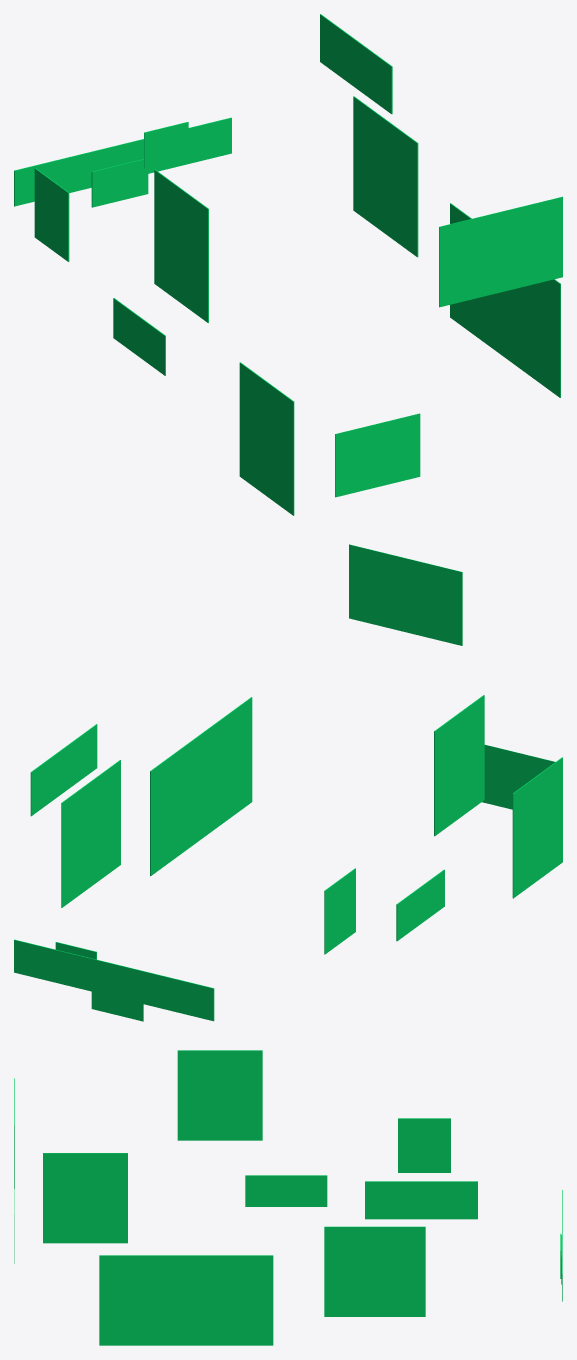
3 renders of one model, top to bottom at view 1: azimuth 30°, elevation 25°; view 2: azimuth 150°, elevation 25°; view 3: azimuth 270°, elevation 25°, orthographic. The views are drawn at different scales.
Visible parts, largest first — view 1: plane_11_msh, plane_10_msh, plane_8_msh, plane_7_msh, plane_6_msh, plane_12_msh, plane_1_msh, plane_9_msh, plane_5_msh, plane_4_msh, plane_3_msh, plane_2_msh; view 2: plane_10_msh, plane_11_msh, plane_1_msh, plane_8_msh, plane_6_msh, plane_7_msh, plane_9_msh, plane_12_msh, plane_5_msh, plane_4_msh, plane_3_msh; view 3: plane_10_msh, plane_8_msh, plane_6_msh, plane_7_msh, plane_9_msh, plane_5_msh, plane_4_msh.
Boxes of the visible parts, left/top/right/bottom form: plane_11_msh: left=439, top=196, right=562, bottom=307; plane_10_msh: left=450, top=203, right=560, bottom=397; plane_8_msh: left=353, top=96, right=418, bottom=257; plane_7_msh: left=239, top=362, right=294, bottom=515; plane_6_msh: left=154, top=169, right=208, bottom=322; plane_12_msh: left=335, top=413, right=420, bottom=497; plane_1_msh: left=14, top=117, right=231, bottom=206; plane_9_msh: left=320, top=14, right=392, bottom=114; plane_5_msh: left=34, top=168, right=69, bottom=261; plane_4_msh: left=113, top=298, right=165, bottom=375; plane_3_msh: left=91, top=159, right=148, bottom=207; plane_2_msh: left=144, top=122, right=188, bottom=168; plane_10_msh: left=150, top=697, right=252, bottom=876; plane_11_msh: left=349, top=544, right=462, bottom=645; plane_1_msh: left=14, top=939, right=214, bottom=1021; plane_8_msh: left=61, top=760, right=120, bottom=907; plane_6_msh: left=434, top=695, right=484, bottom=836; plane_7_msh: left=512, top=757, right=562, bottom=898; plane_9_msh: left=30, top=724, right=97, bottom=816; plane_12_msh: left=482, top=744, right=554, bottom=809; plane_5_msh: left=324, top=868, right=355, bottom=954; plane_4_msh: left=396, top=869, right=444, bottom=941; plane_3_msh: left=91, top=991, right=143, bottom=1021; plane_10_msh: left=99, top=1255, right=273, bottom=1345; plane_8_msh: left=324, top=1226, right=425, bottom=1316; plane_6_msh: left=177, top=1050, right=262, bottom=1140; plane_7_msh: left=43, top=1153, right=127, bottom=1243; plane_9_msh: left=365, top=1181, right=477, bottom=1219; plane_5_msh: left=398, top=1118, right=450, bottom=1172; plane_4_msh: left=245, top=1175, right=327, bottom=1206.
Bounding box in the file's own units: 298 × 254 × 592.
